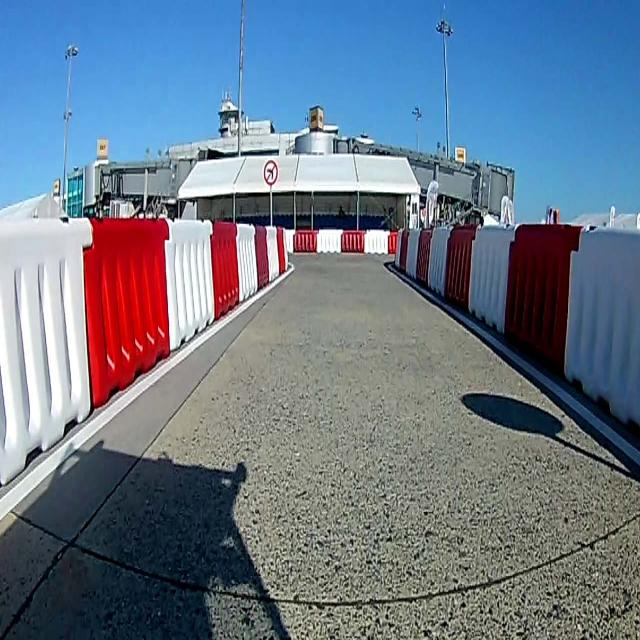soladonulmez: (263, 159, 279, 185)
